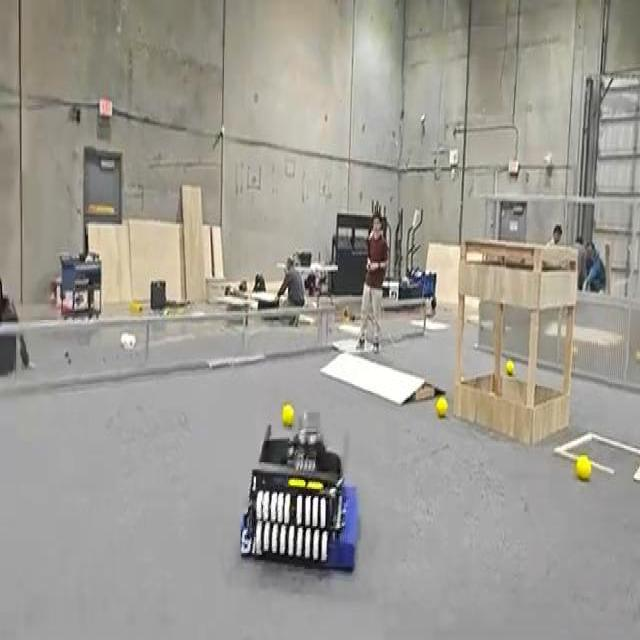Fuel: (575, 455, 591, 480), (282, 404, 294, 428), (282, 404, 294, 426), (434, 396, 446, 418), (435, 396, 447, 416), (505, 359, 514, 375)
